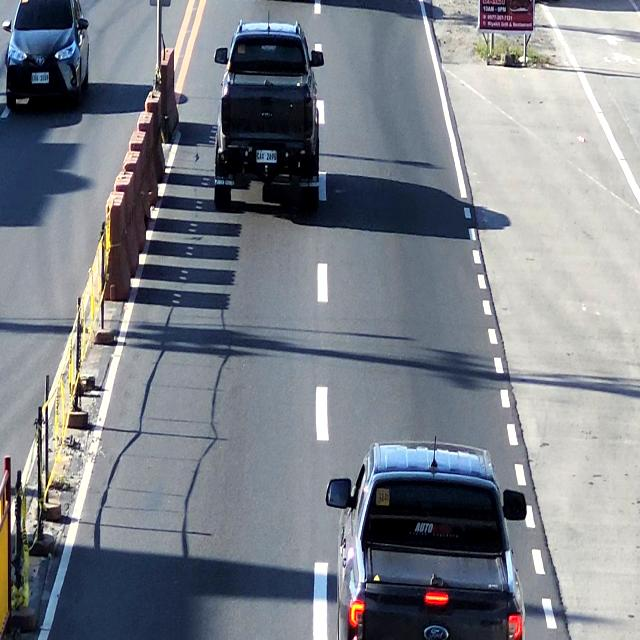Car: (334, 443, 519, 640), (210, 19, 325, 208)
License-Plate: (255, 148, 278, 164), (29, 70, 50, 86)
